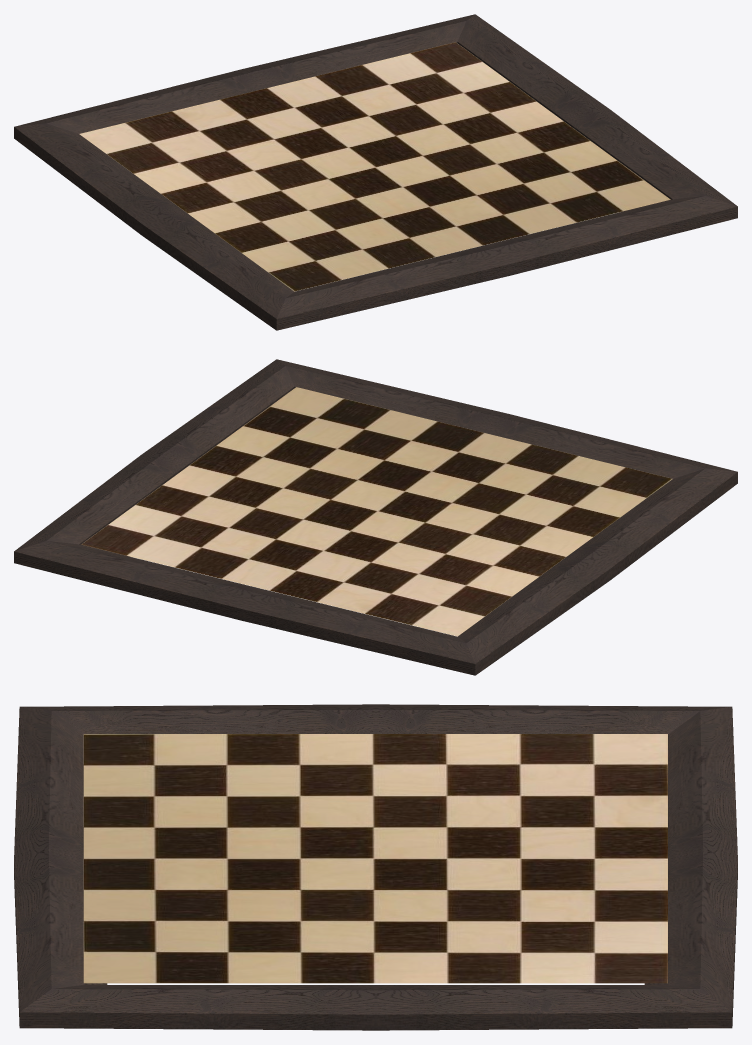
Rendered from board_with_border.FBX.
3 views of the same model, one above another, from view 1: azimuth 30°, elevation 25°; view 2: azimuth 150°, elevation 25°; view 3: azimuth 270°, elevation 25° (orthographic). The views are drawn at different scales.
Visible parts, largest first — view 1: Board, Border; view 2: Board, Border; view 3: Board, Border.
Part boxes in pixels (left/top/right/bottom): Board: left=79, top=42, right=670, bottom=291; Border: left=14, top=14, right=737, bottom=330; Board: left=81, top=387, right=672, bottom=636; Border: left=14, top=359, right=737, bottom=675; Board: left=83, top=734, right=667, bottom=983; Border: left=14, top=704, right=737, bottom=1030.
Bounding box in the file's own units: 1010 × 86.71 × 996.
